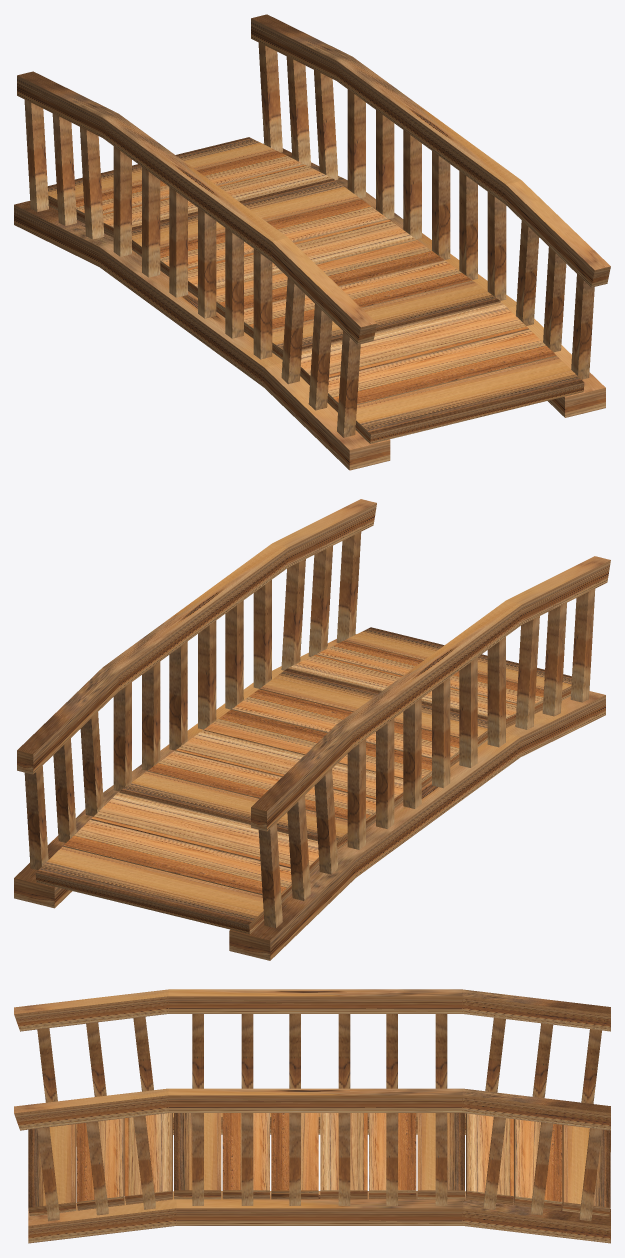
The model's file is bridge_minigame.fbx.
The picture shows the model from 3 angles, top to bottom: view 1: azimuth 30°, elevation 25°; view 2: azimuth 150°, elevation 25°; view 3: azimuth 270°, elevation 25°; orthographic projection. The views are drawn at different scales.
Visible parts, largest first — view 1: BridgeFrame; view 2: BridgeFrame; view 3: BridgeFrame.
Part boxes in pixels (<box>): BridgeFrame: <box>14,14,610,470</box>; BridgeFrame: <box>14,499,610,960</box>; BridgeFrame: <box>14,989,610,1243</box>.
Size of the model in its own units: 528 by 333 by 1227.
Materials: 10 (10 with a texture image).
